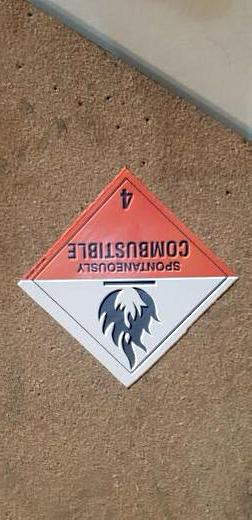spontaneously-combustible: (16, 165, 240, 389)
